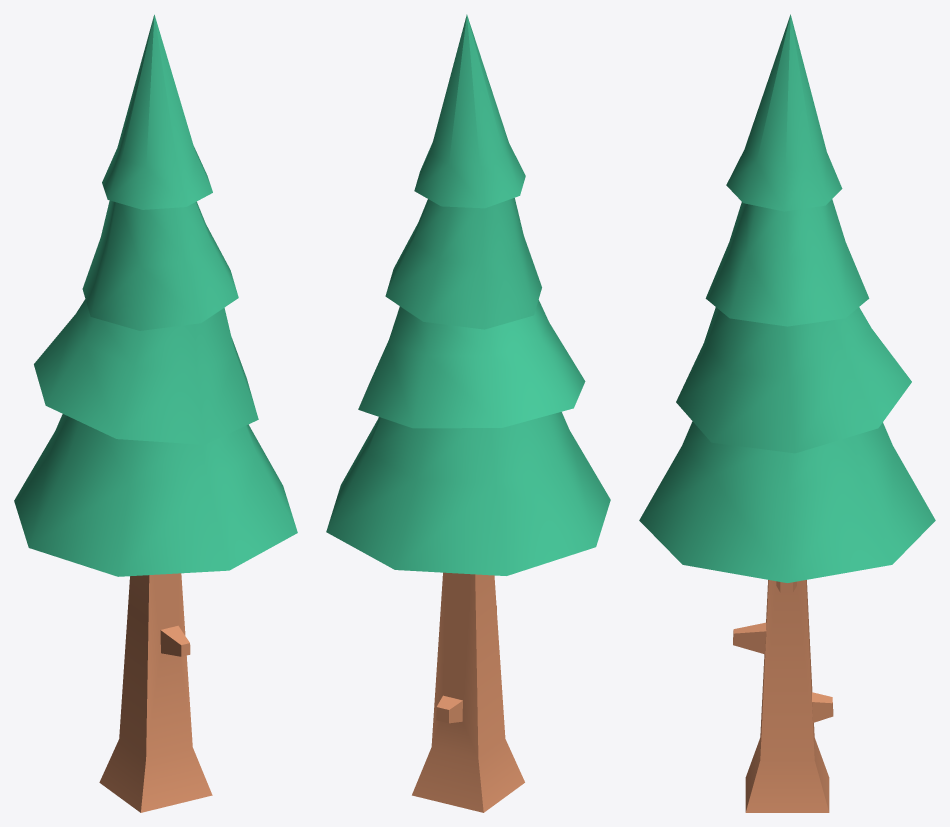
Rendered from treeHighCrooked.fbx.
3 views of the same model, side by side, from view 1: azimuth 30°, elevation 25°; view 2: azimuth 150°, elevation 25°; view 3: azimuth 270°, elevation 25° (orthographic).
Parts seen in each view (by area): view 1: treeHighCrooked; view 2: treeHighCrooked; view 3: treeHighCrooked.
Part boxes in pixels (box(x1,y1,x2,y2)): treeHighCrooked: box(14, 14, 297, 812); treeHighCrooked: box(326, 14, 610, 812); treeHighCrooked: box(639, 14, 935, 812).
Bounding box in the file's own units: 10.23 × 29.73 × 10.23.
